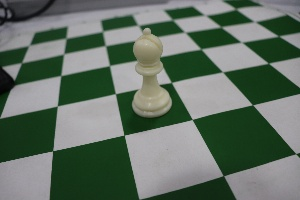white_bishop: (125, 9, 178, 125)
